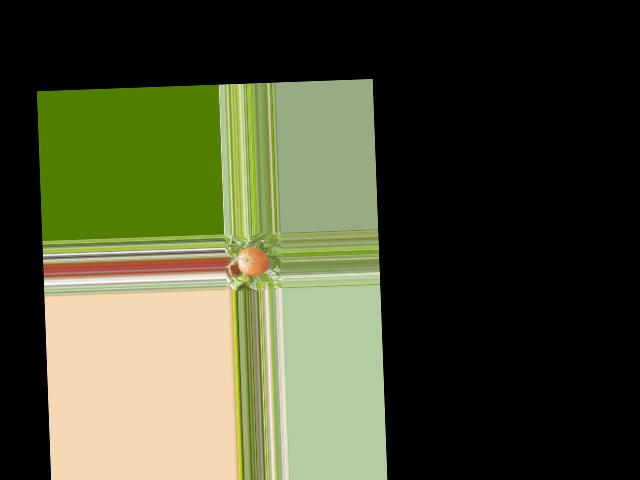tomato: (237, 246, 268, 275)
